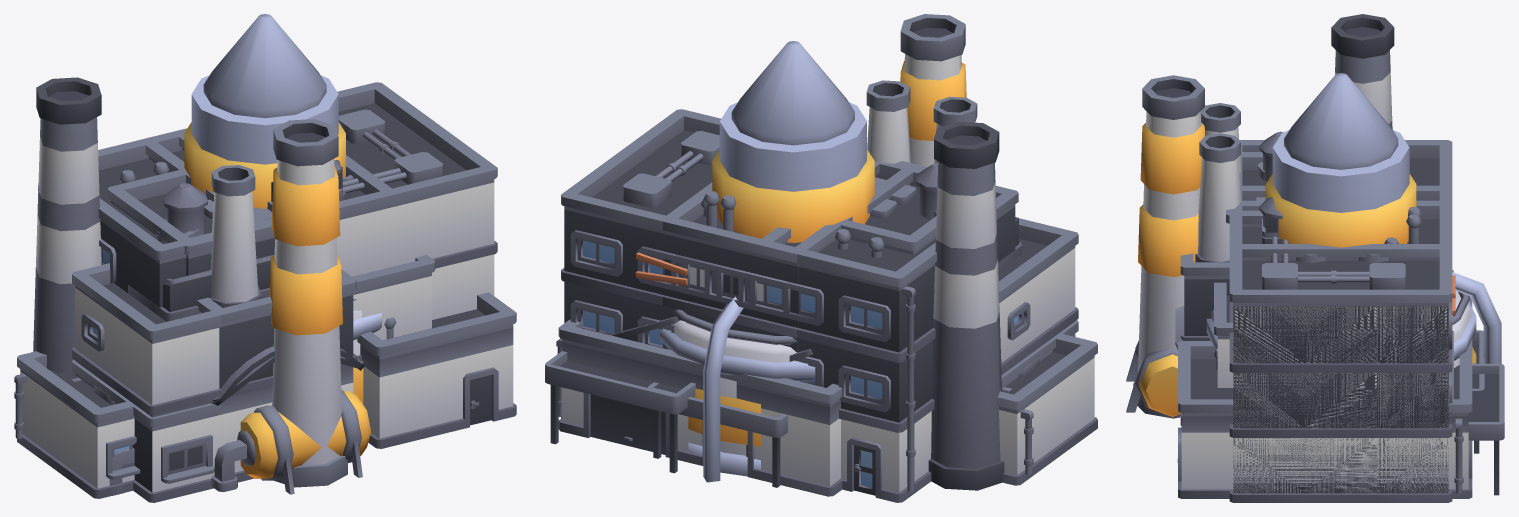
Rendered from industrial.glb.
3 views of the same model, side by side, from view 1: azimuth 30°, elevation 25°; view 2: azimuth 150°, elevation 25°; view 3: azimuth 270°, elevation 25° (orthographic). The views are drawn at different scales.
Parts seen in each view (by area): view 1: building-l, building-f, building-c, building-a, building-b, building-e, water-tower, chimney-large, building-h, building-g, building-d, detail-tank-large (+1 smaller); view 2: building-a, building-f, building-c, building-l, building-d, chimney-large, detail-tank-large, water-tower, building-g, building-e, building-b, building-h; view 3: building-a, building-b, building-c, building-l, chimney-large, building-e, water-tower, building-f, building-d, detail-tank-large, building-g.
Part boxes in pixels (x1,y1,x2,y2): building-l: [14, 119, 435, 498]; building-f: [33, 77, 356, 495]; building-c: [211, 175, 516, 494]; building-a: [38, 82, 497, 307]; building-b: [156, 105, 497, 319]; building-e: [196, 165, 356, 472]; water-tower: [203, 14, 326, 118]; chimney-large: [184, 75, 345, 208]; building-h: [71, 356, 363, 502]; building-g: [107, 168, 274, 275]; building-d: [145, 132, 391, 221]; detail-tank-large: [353, 299, 381, 403]; building-a: [561, 109, 1018, 502]; building-f: [928, 121, 1078, 490]; building-c: [545, 319, 843, 496]; building-l: [900, 14, 1097, 485]; building-d: [648, 164, 913, 487]; chimney-large: [712, 102, 874, 242]; detail-tank-large: [659, 296, 815, 482]; water-tower: [731, 41, 854, 145]; building-g: [610, 161, 936, 361]; building-e: [866, 80, 977, 163]; building-b: [574, 129, 936, 347]; building-h: [1001, 320, 1078, 391]; building-a: [1229, 131, 1452, 502]; building-b: [1229, 162, 1455, 502]; building-c: [1126, 254, 1504, 498]; building-l: [1133, 75, 1233, 418]; chimney-large: [1266, 130, 1416, 247]; building-e: [1180, 103, 1240, 425]; water-tower: [1284, 73, 1398, 169]; building-f: [1180, 14, 1394, 417]; building-d: [1230, 183, 1484, 453]; detail-tank-large: [1206, 272, 1501, 367]; building-g: [1226, 152, 1453, 399].
Bounding box in the file's own units: 2.51 × 2.14 × 2.11.
Materials: 1 (1 with a texture image).
